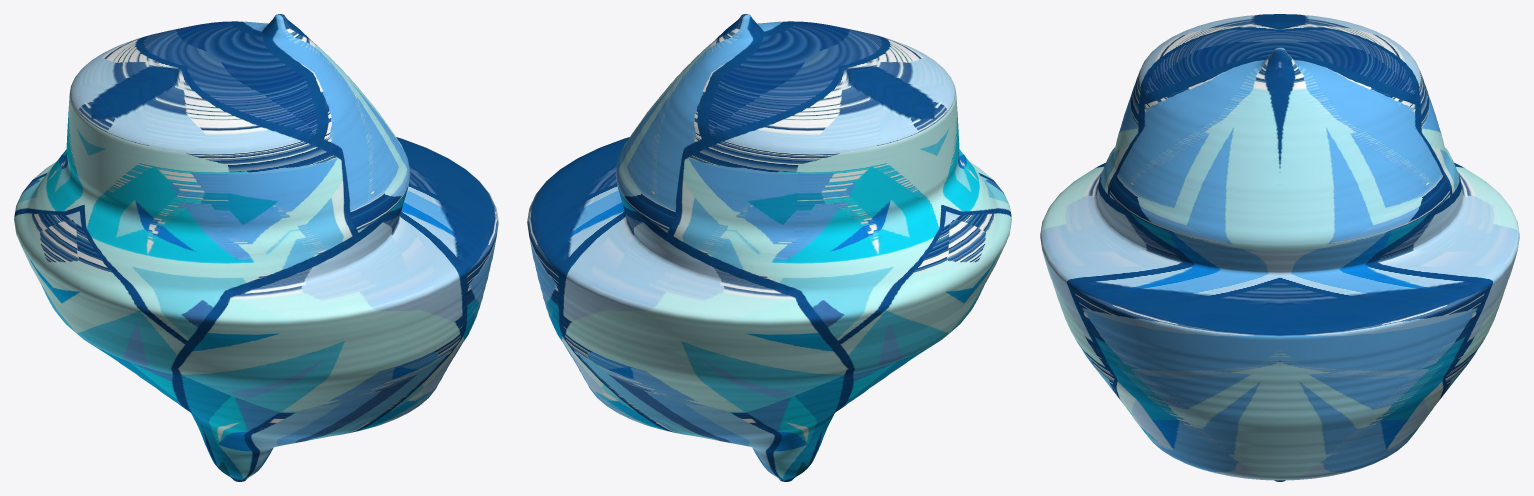
Rendered from crystal_cluster.glb.
3 views of the same model, side by side, from view 1: azimuth 30°, elevation 25°; view 2: azimuth 150°, elevation 25°; view 3: azimuth 270°, elevation 25° (orthographic).
Parts seen in each view (by area): view 1: crystal_cluster; view 2: crystal_cluster; view 3: crystal_cluster.
Boxes of the visible parts, x1,y1,x2,y2 form: crystal_cluster: (14,14,498,481); crystal_cluster: (527,14,1011,481); crystal_cluster: (1040,14,1519,481).
Bounding box in the file's own units: 0.9973 × 1.03 × 0.9953.
1 material, 1 textured.
